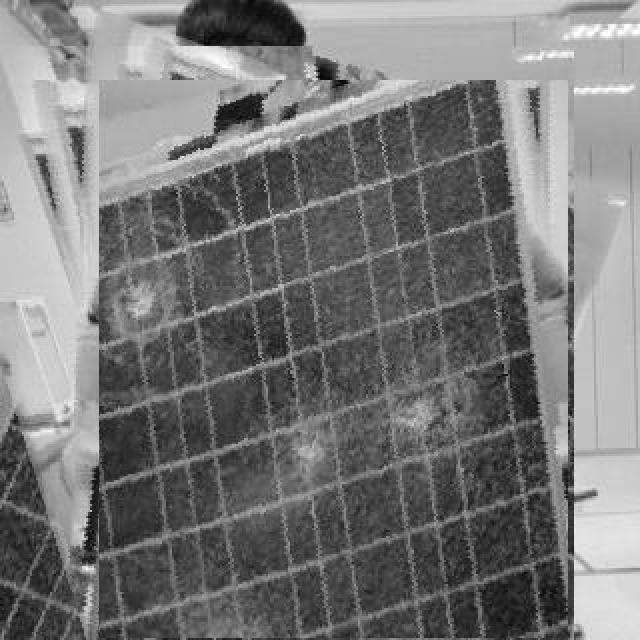Physical-damage: (421, 185, 577, 374), (163, 334, 297, 460), (298, 581, 548, 640), (325, 402, 409, 496)
